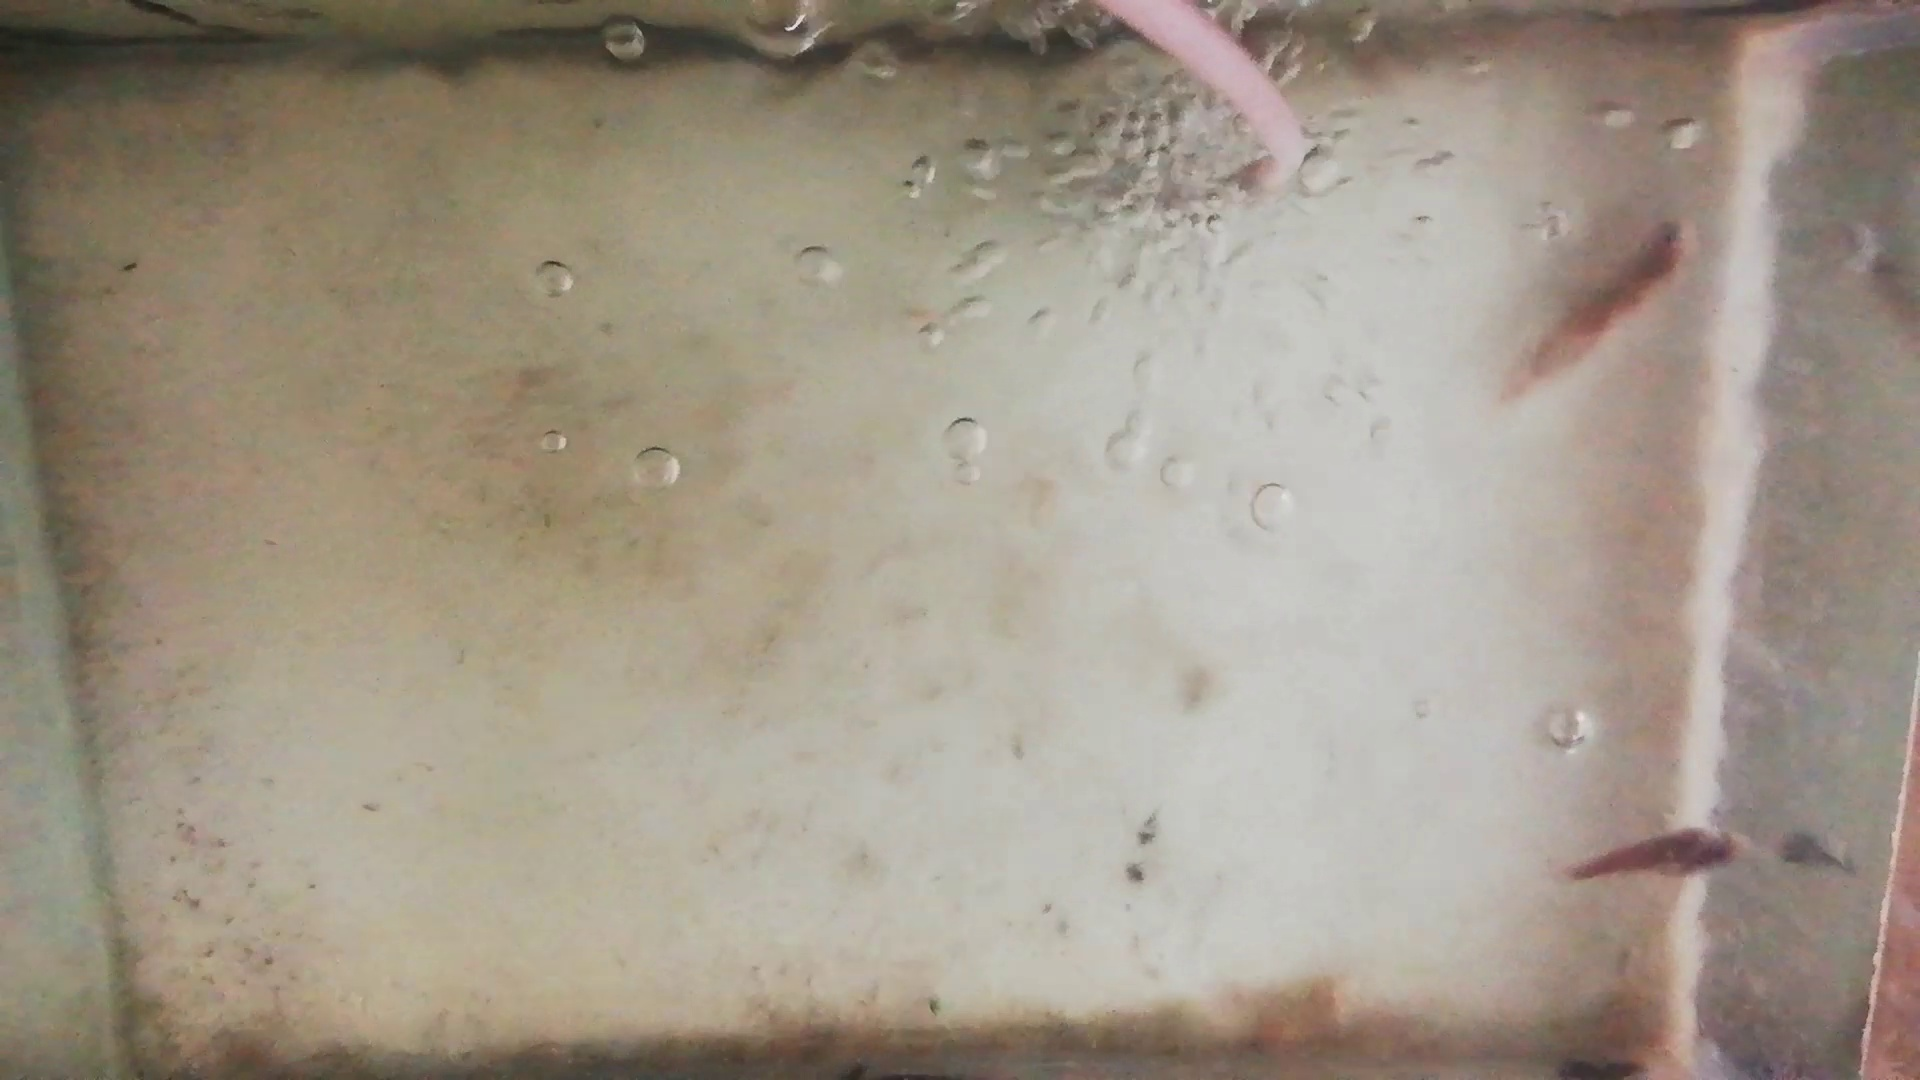fish: (1505, 222, 1696, 397), (1551, 827, 1756, 880)
